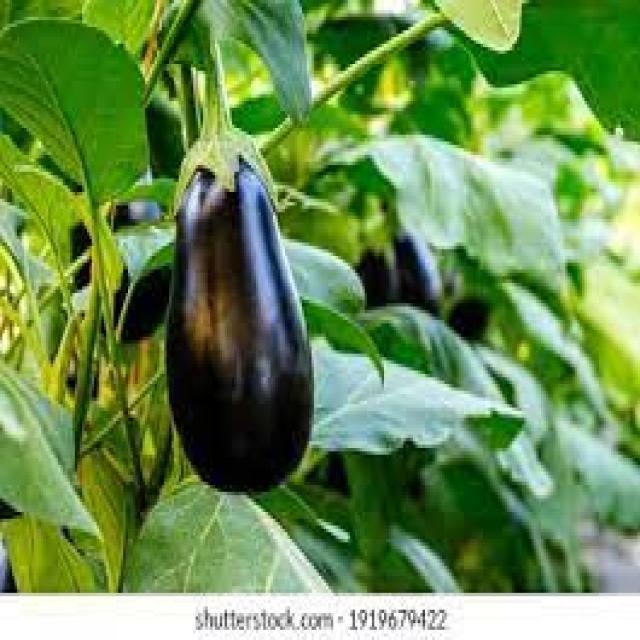Eggplant: (166, 87, 312, 500), (98, 179, 187, 345), (388, 190, 452, 315)
